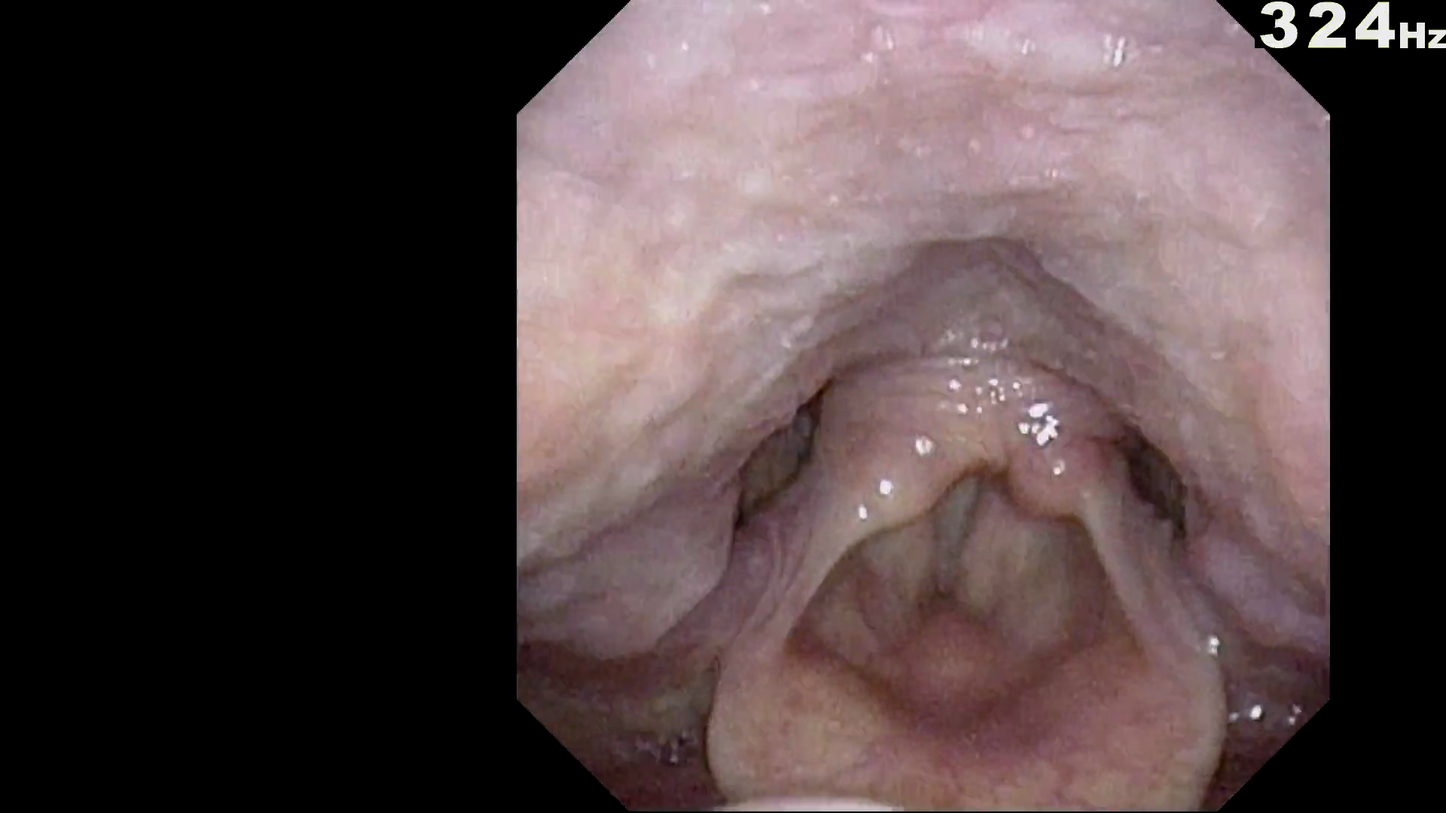epiglottis: (705, 610, 1227, 795)
trachea: (920, 489, 1031, 609)
